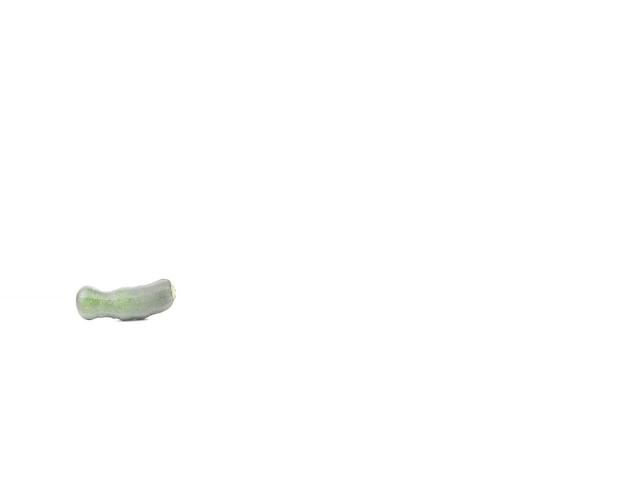cucumber: (76, 278, 176, 320)
